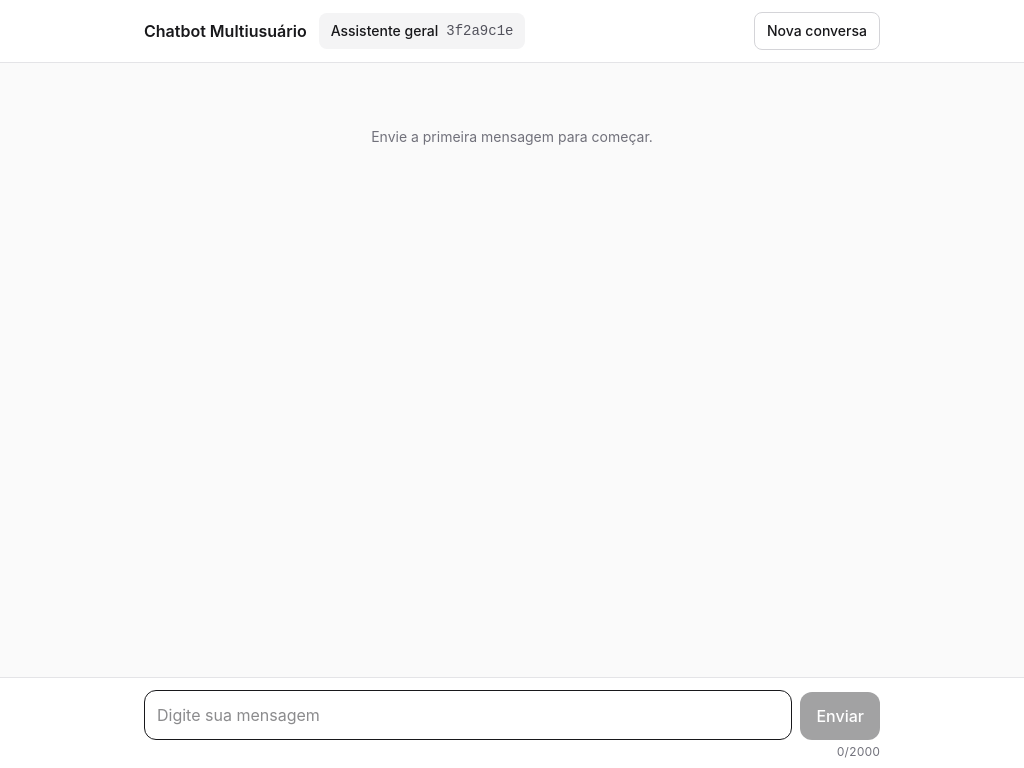
Test case: enviar mensagem › mostra a pergunta na hora, desabilita o input enquanto aguarda e renderiza a resposta
Later steps or results of the test are not shown.
Type "O que é computação em nuvem?" into the text box labelled "mensagem" at (468, 715), box [144,690,792,740]
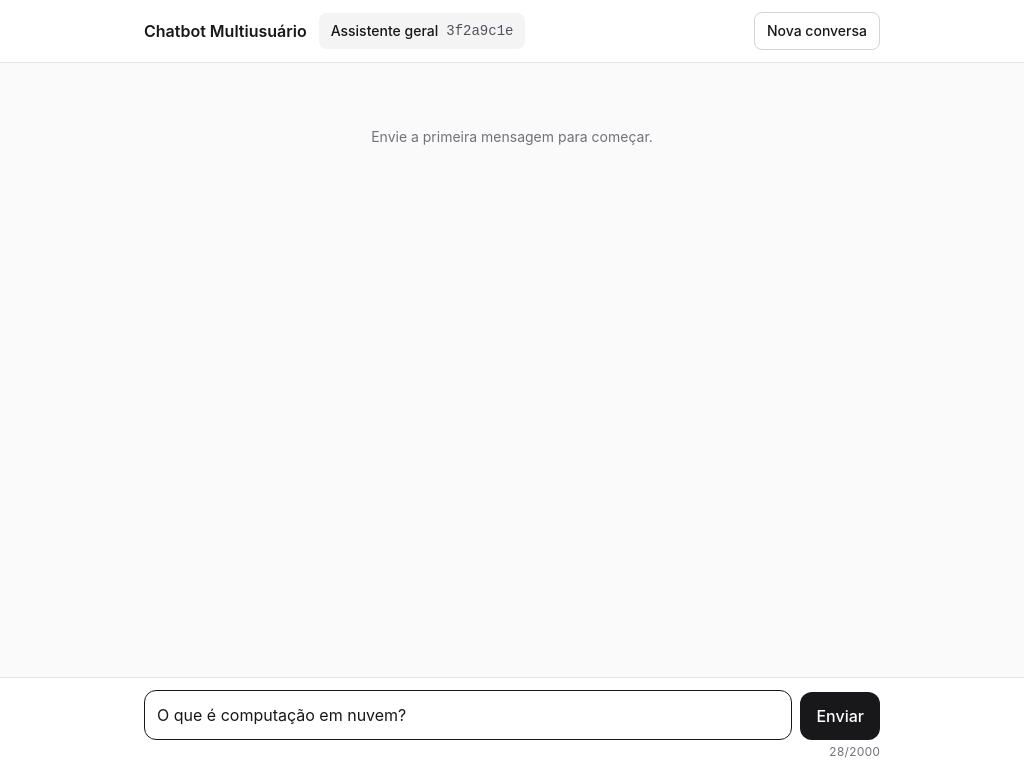
Click the button "Enviar" at (840, 716), box [800,692,880,740]
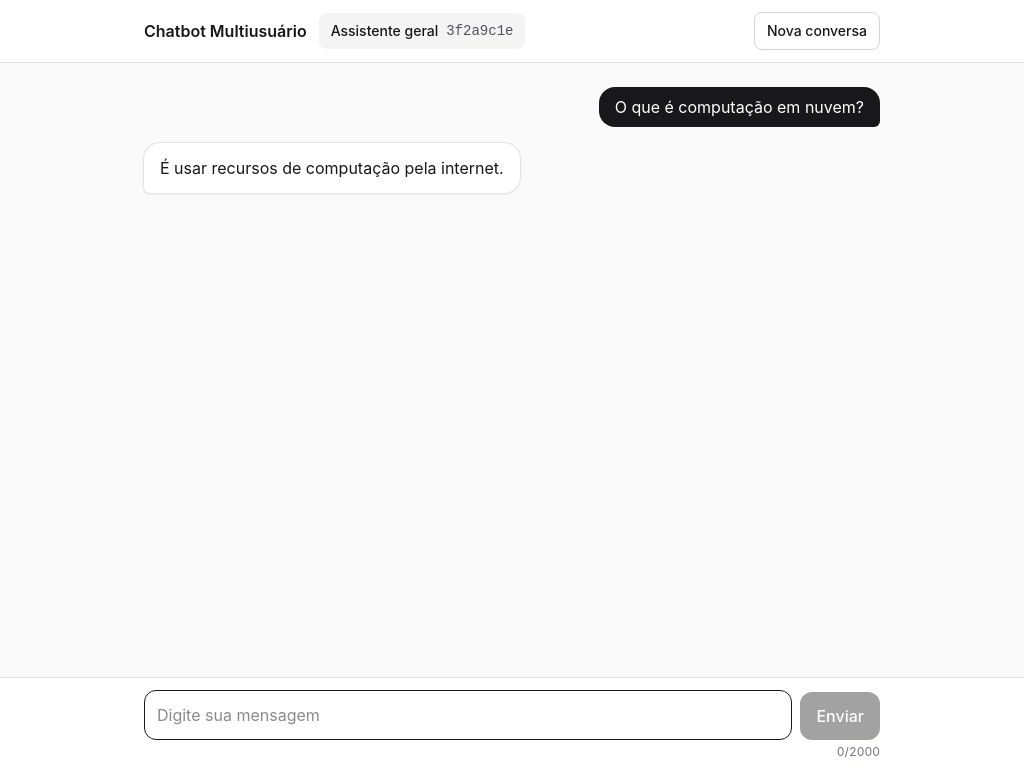
Check: the text "O que é computação em nuvem?" is shown, box [599,87,880,127]
Check: the text box labelled "mensagem" is empty, box [144,690,792,740]
Check: the text "É usar recursos de computação pela internet." is shown, box [160,155,504,181]
